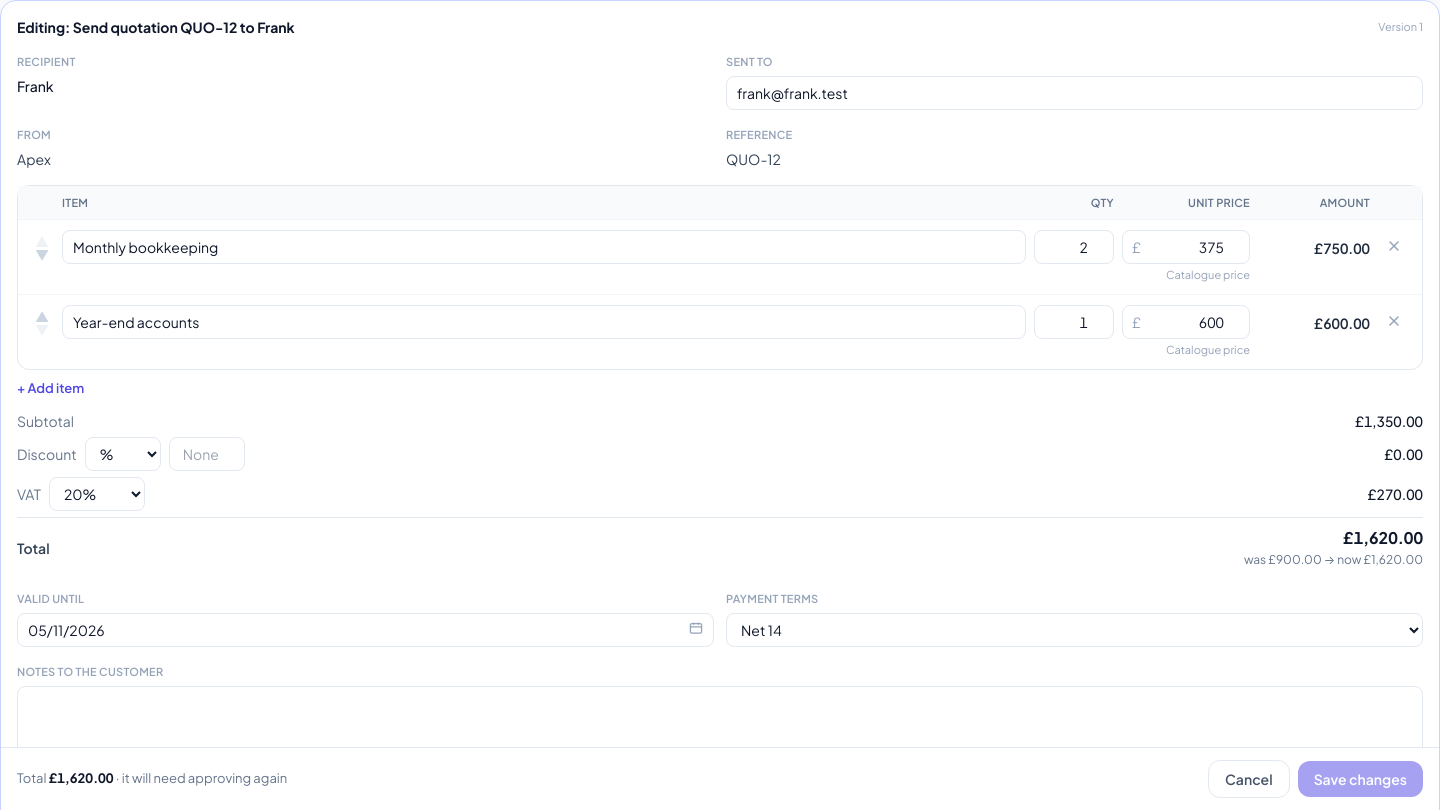
discount, free lines, reordering and the phone layout › allows a free line (price 0), but not a document that comes to nothing
Replace the text in the number field named "Unit price" next to "£600.00" with "0": (1186, 322) [1122, 305, 1250, 339]
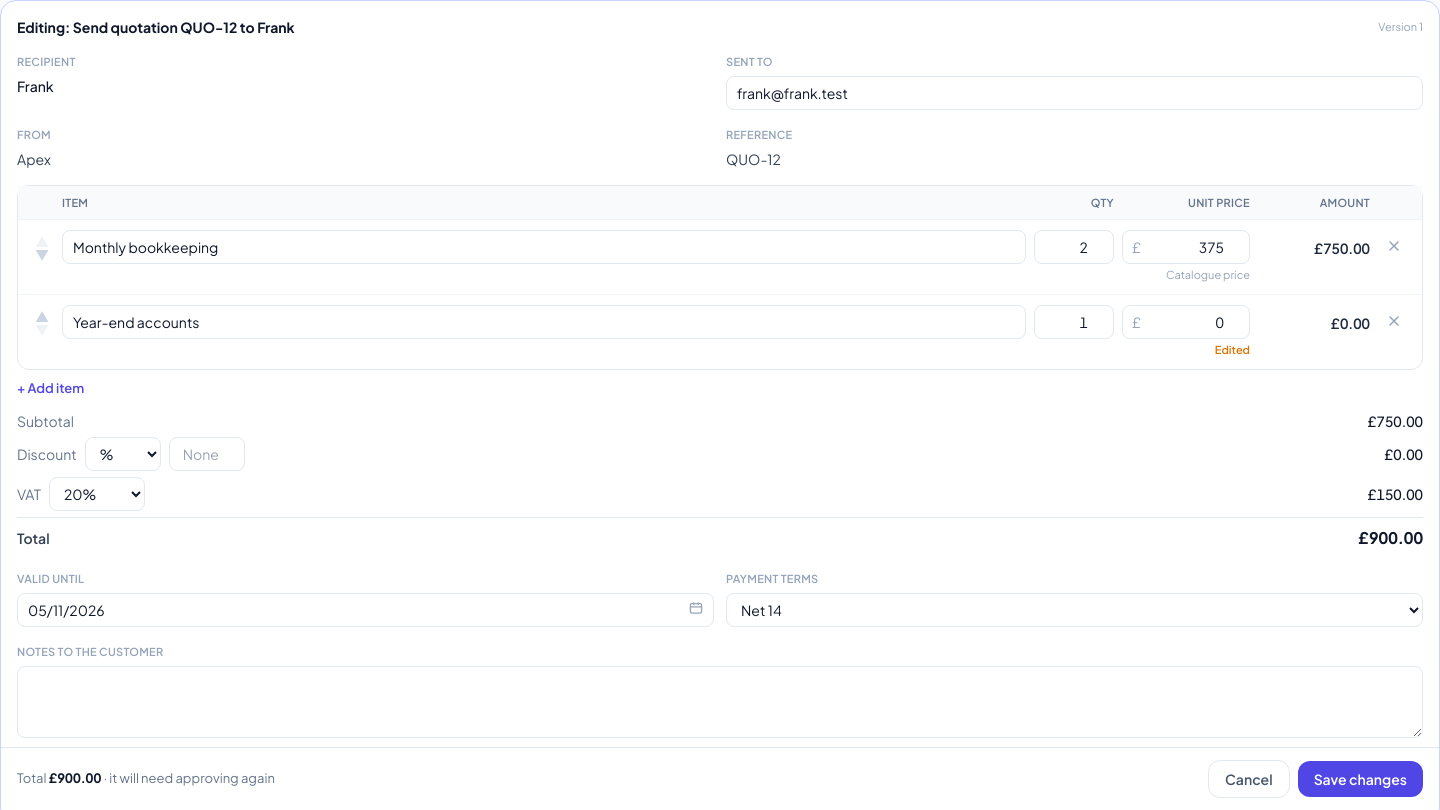
Expected: the text "Enter a price of 0 or more." is not shown
Result: the button "Save changes" is enabled at [1298, 761, 1423, 797]
Replace the text in the 1st number field named "Unit price" with "0": (1186, 247) [1122, 230, 1250, 264]
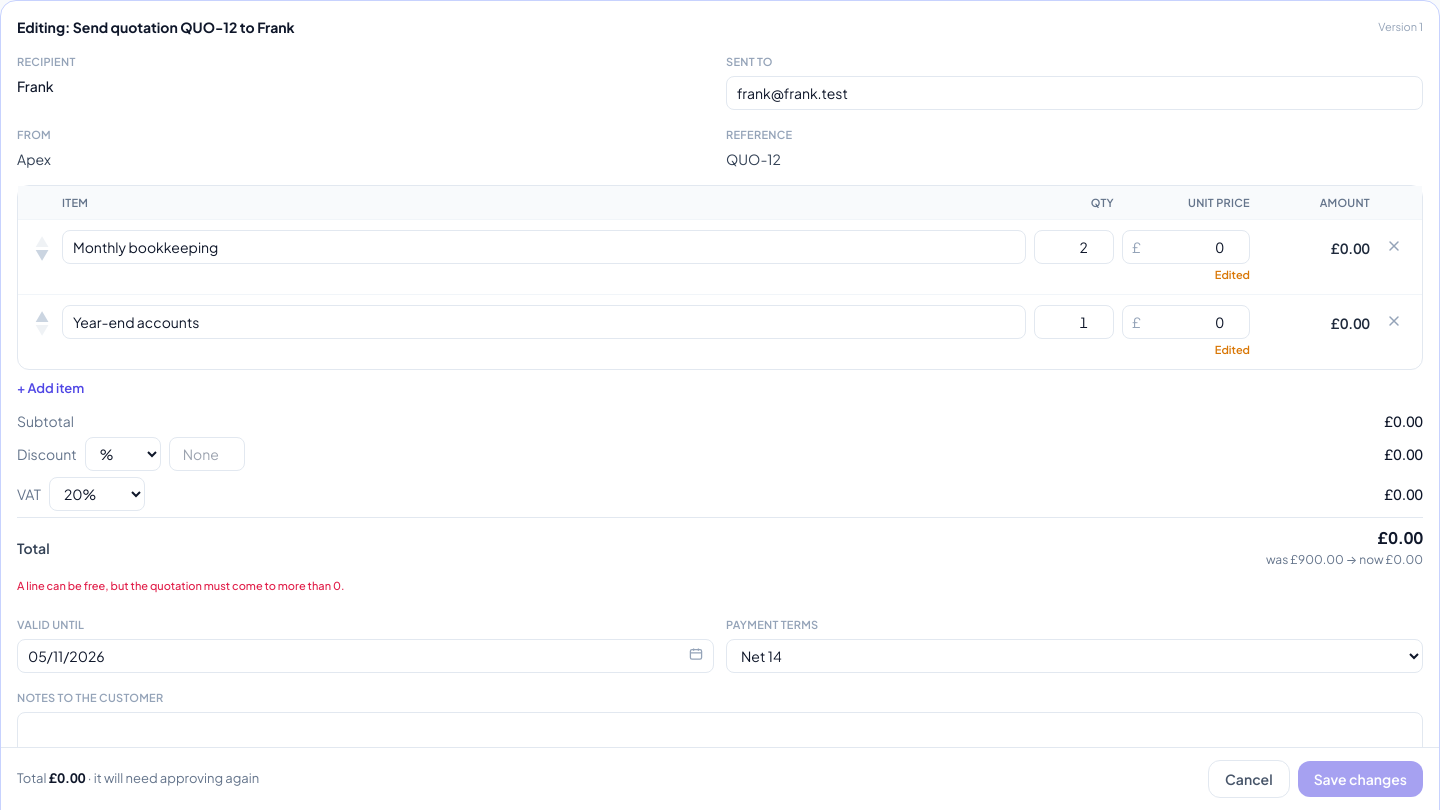
Result: the text "A line can be free, but the quotation must come to more than 0." is shown at [17, 579, 344, 592]
Result: the button "Save changes" is disabled at [1298, 761, 1423, 797]
Replace the text in the 1st number field named "Unit price" with "-5": (1186, 247) [1122, 230, 1250, 264]
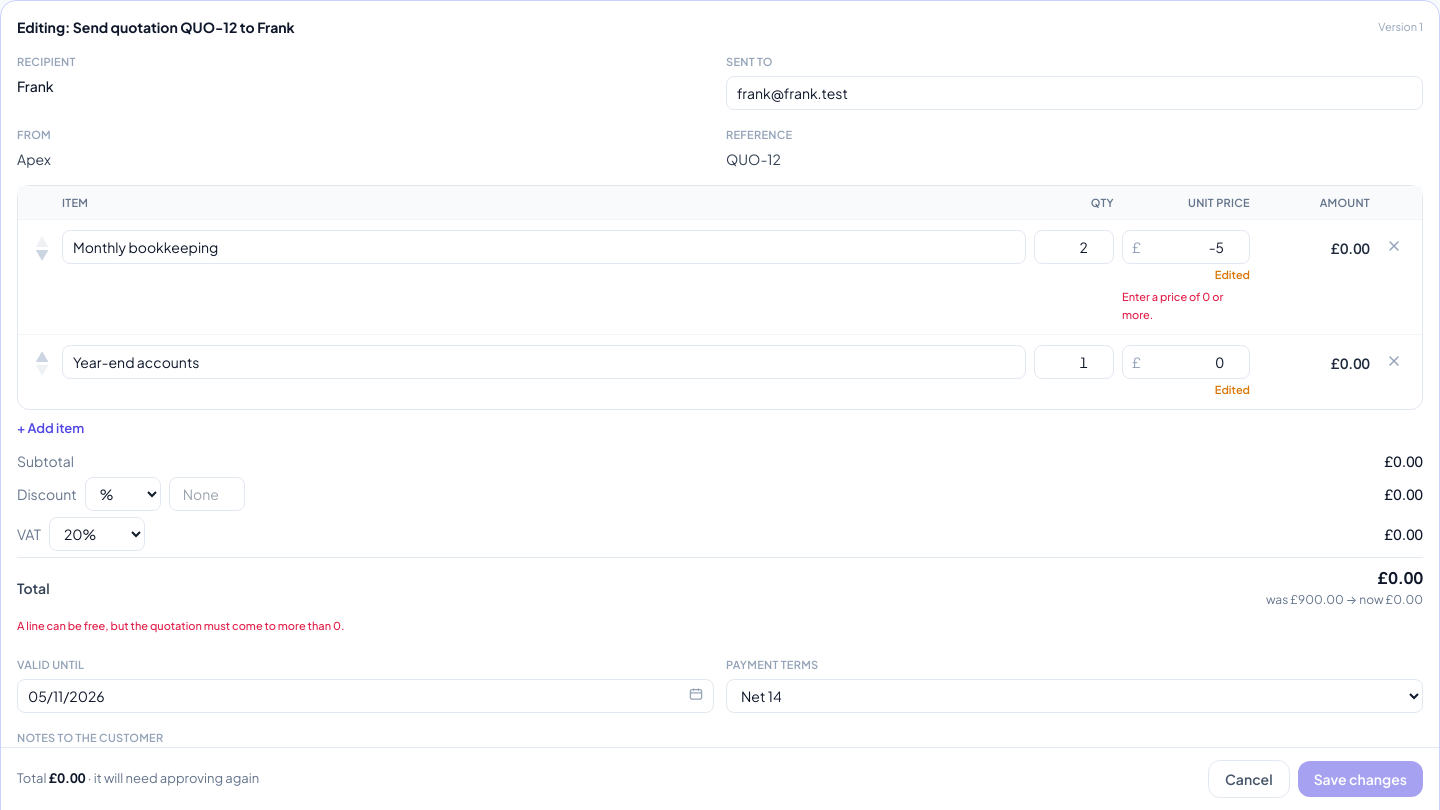
Result: the text "Enter a price of 0 or more." is shown at [1122, 290, 1223, 321]
